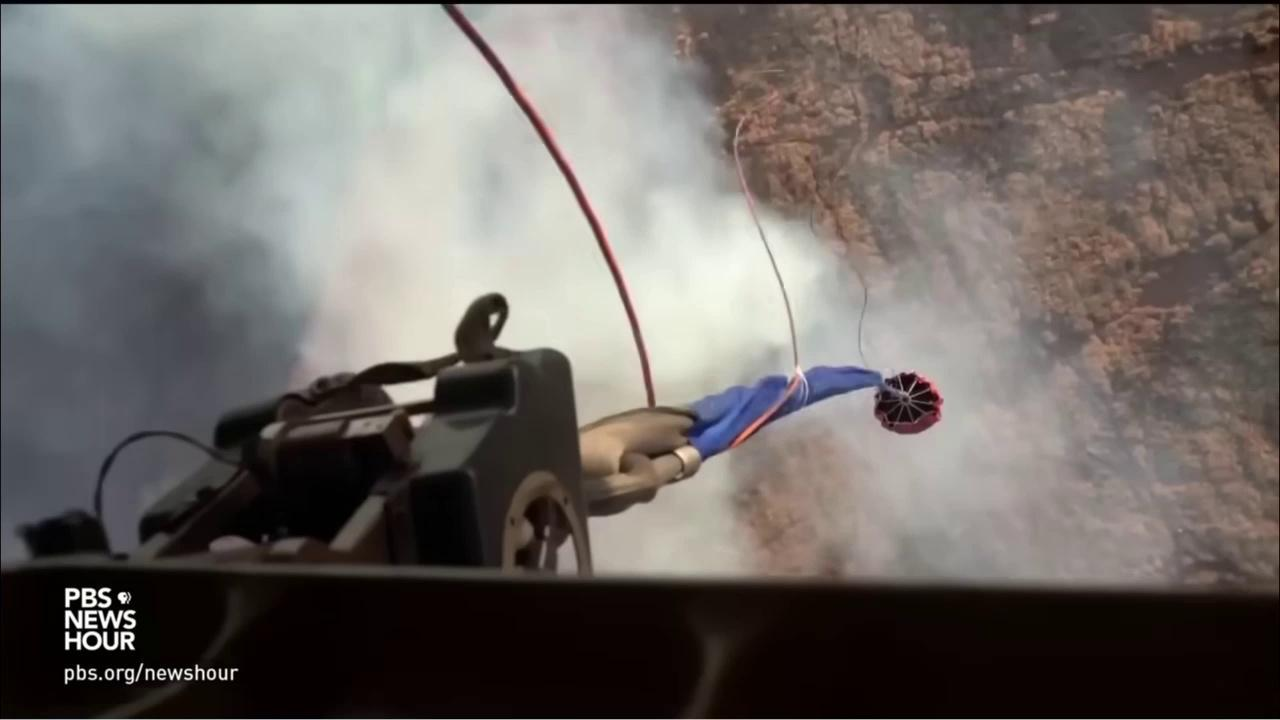smoke: (0, 4, 1176, 587)
